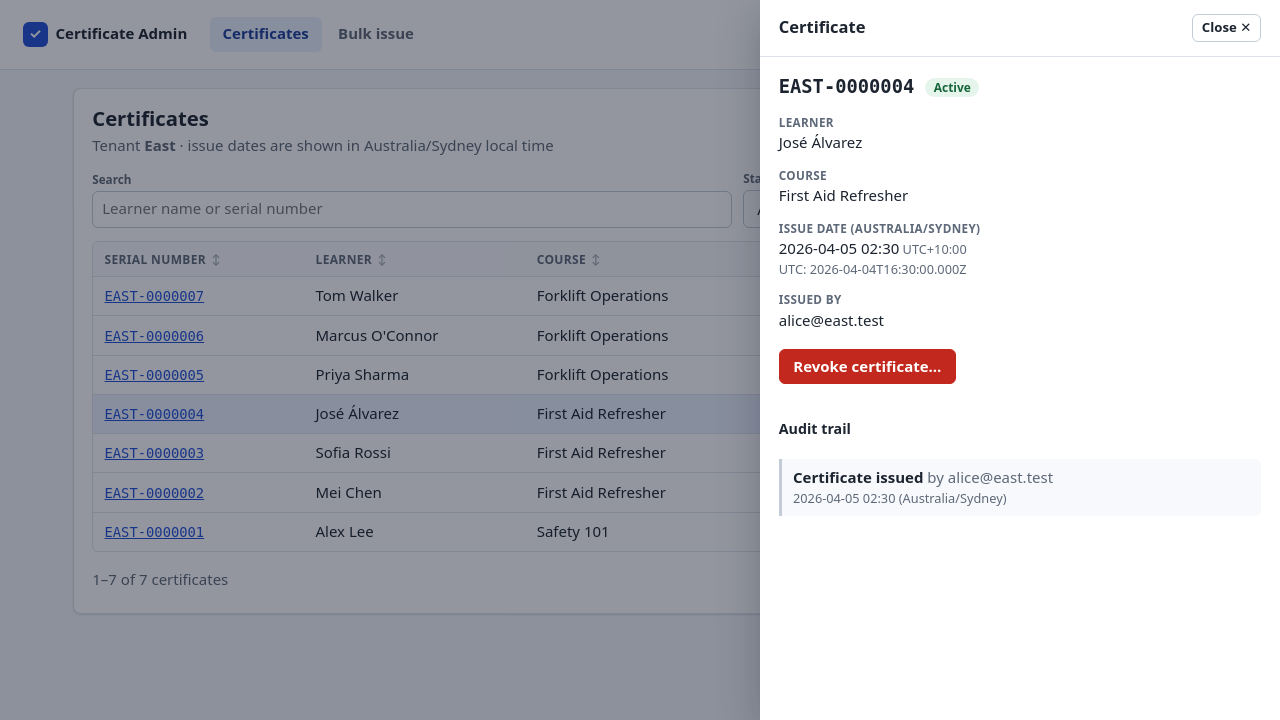
Scenario: Revocation › sends no reason when none was given
Expected: the dialog named "Certificate details" is shown, [760,0,1279,719]
Click the button with test id "revoke-button" at (867, 366), box [779,348,956,384]
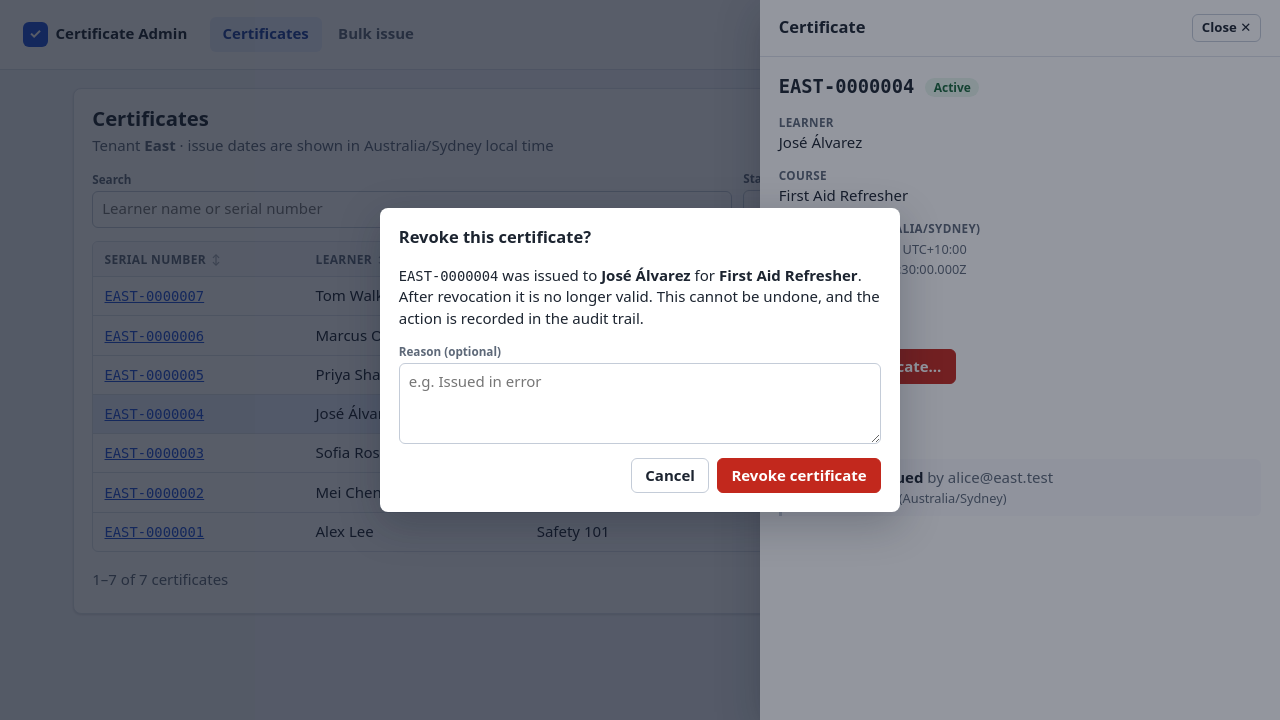
Click the button with test id "revoke-confirm" at (799, 475), box [717,458,881,493]
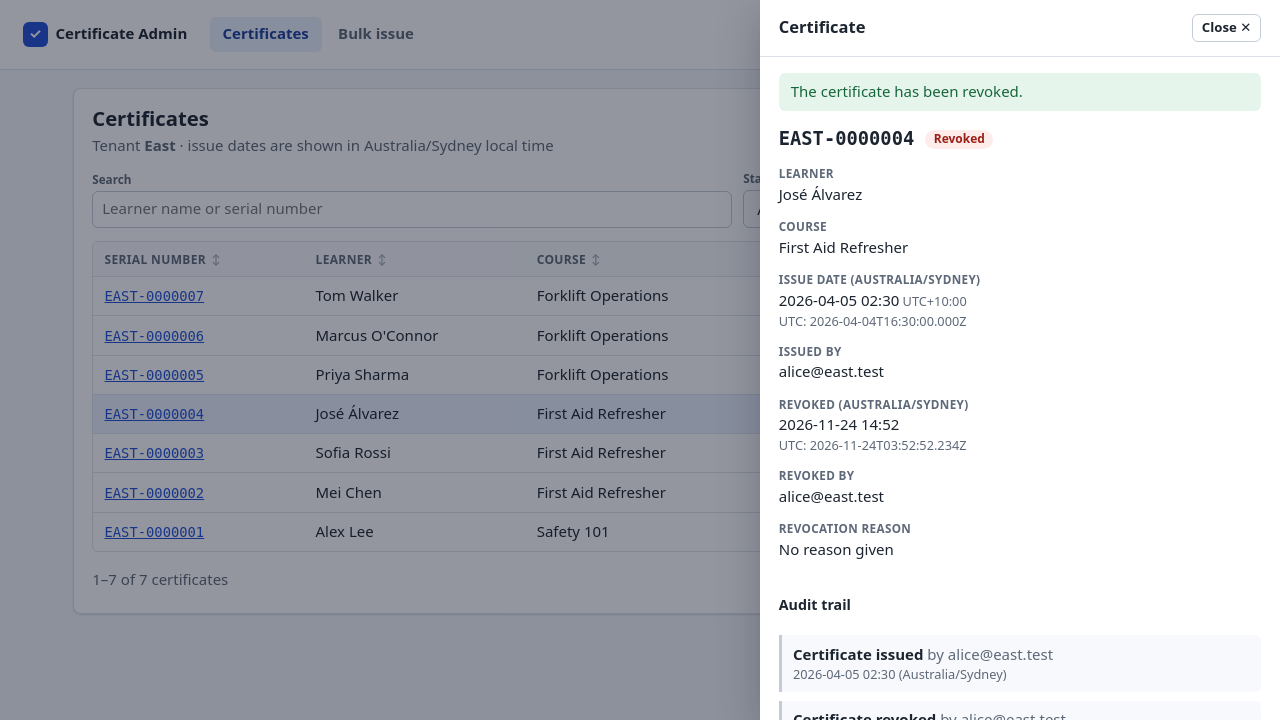
Result: the message "The certificate has been revoked." is shown at [779,73,1261,111]
Result: the text "No reason given" is shown at [779,539,894,559]
